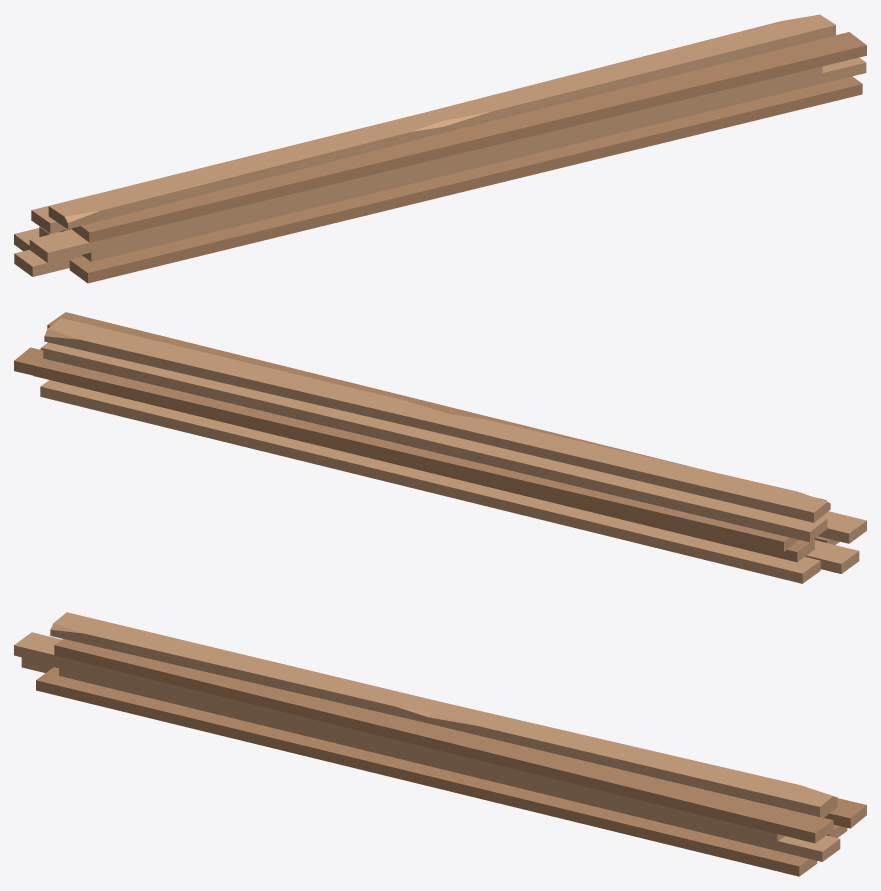
The model's file is SM_Prop_Plank_Long_Stack_01.obj.
3 renders of one model, top to bottom at view 1: azimuth 30°, elevation 25°; view 2: azimuth 150°, elevation 25°; view 3: azimuth 330°, elevation 25°, orthographic.
Parts seen in each view (by area): view 1: SM_Prop_Plank_Long_Stack_01_0; view 2: SM_Prop_Plank_Long_Stack_01_0; view 3: SM_Prop_Plank_Long_Stack_01_0.
Part boxes in pixels (box(x1,y1,x2,y2)): SM_Prop_Plank_Long_Stack_01_0: box(14, 14, 866, 283); SM_Prop_Plank_Long_Stack_01_0: box(14, 312, 866, 583); SM_Prop_Plank_Long_Stack_01_0: box(14, 612, 866, 876).
Size of the model in its own units: 8.36 by 0.5103 by 1.04.
Materials: 1 (1 with a texture image).
